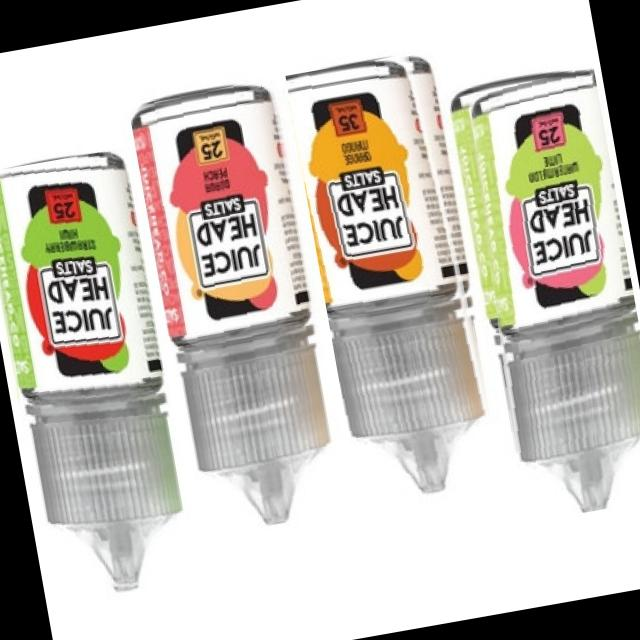Hazard: (126, 75, 351, 536), (284, 48, 509, 508), (0, 146, 201, 604), (445, 64, 640, 522)
